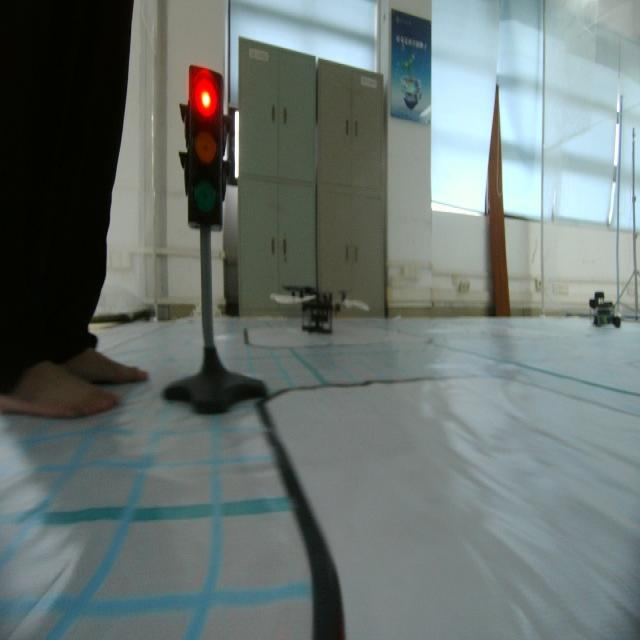red: (179, 51, 233, 232)
